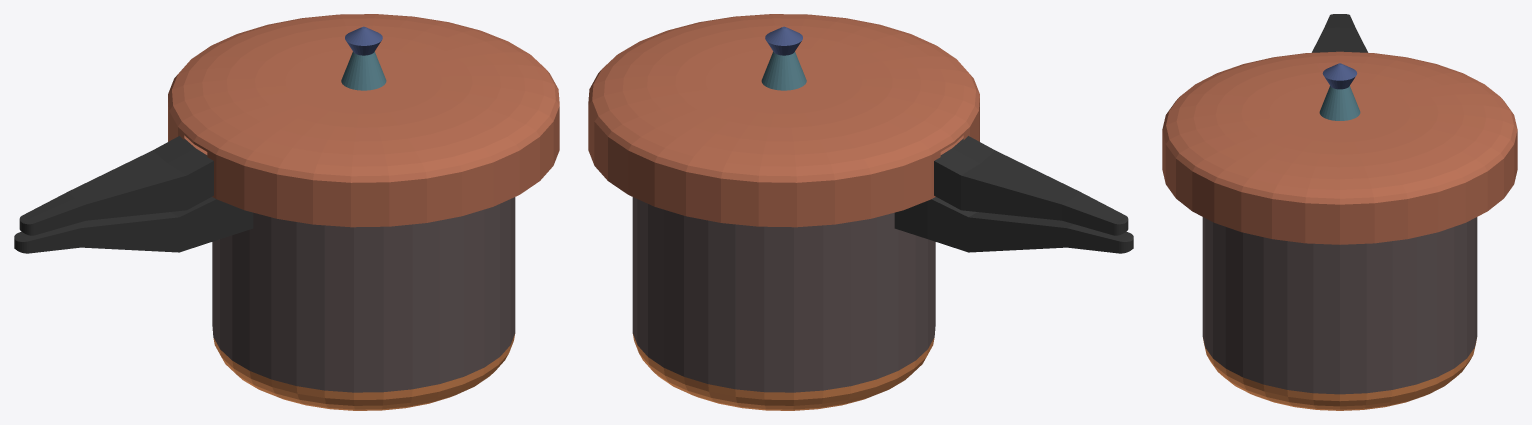
Rendered from Res01_Cooker.fbx.
3 renders of one model, left to right at view 1: azimuth 30°, elevation 25°; view 2: azimuth 150°, elevation 25°; view 3: azimuth 270°, elevation 25°, orthographic. The views are drawn at different scales.
Parts seen in each view (by area): view 1: Res01_Cooker; view 2: Res01_Cooker; view 3: Res01_Cooker.
Part boxes in pixels (<box>): Res01_Cooker: <box>14,14,559,410</box>; Res01_Cooker: <box>588,14,1133,410</box>; Res01_Cooker: <box>1162,14,1517,410</box>.
Bounding box in the file's own units: 213 × 130 × 140.
